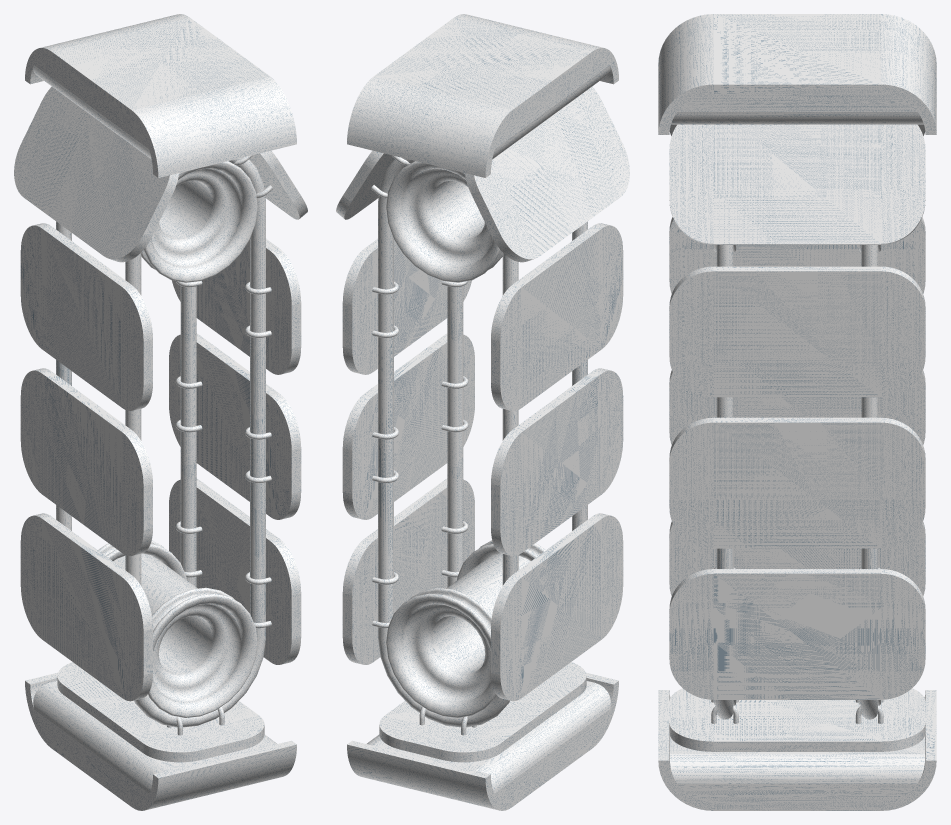
File: scroll bar_4.dae
3 views of the same model, side by side, from view 1: azimuth 30°, elevation 25°; view 2: azimuth 150°, elevation 25°; view 3: azimuth 270°, elevation 25° (orthographic). The views are drawn at different scales.
Visible parts, largest first — view 1: Board (×9), Frame (×2), Shaft (×2), Transmission_Rubber_Cord (×2), Soft_Cushion (×2), Guide_Wheel (×3); view 2: Board (×9), Frame (×2), Shaft (×2), Transmission_Rubber_Cord (×2), Soft_Cushion (×2), Guide_Wheel (×3); view 3: Board (×8), Frame (×2), Soft_Cushion (×2), Transmission_Rubber_Cord (×2).
Part boxes in pixels (box(x1,y1,x2,y2)): Board (×9): box(14, 86, 307, 762); Frame (×2): box(25, 14, 296, 810); Shaft (×2): box(113, 168, 241, 702); Transmission_Rubber_Cord (×2): box(56, 158, 265, 727); Soft_Cushion (×2): box(33, 58, 276, 800); Guide_Wheel (×3): box(98, 161, 257, 717); Board (×9): box(336, 86, 629, 762); Frame (×2): box(347, 14, 618, 810); Shaft (×2): box(402, 168, 530, 702); Transmission_Rubber_Cord (×2): box(378, 158, 587, 727); Soft_Cushion (×2): box(367, 58, 610, 800); Guide_Wheel (×3): box(386, 161, 545, 717); Board (×8): box(669, 124, 925, 751); Frame (×2): box(658, 14, 936, 810); Soft_Cushion (×2): box(670, 94, 924, 800); Transmission_Rubber_Cord (×2): box(716, 245, 877, 719).
Bounding box in the file's own units: 16.55 × 19.7 × 56.74.
